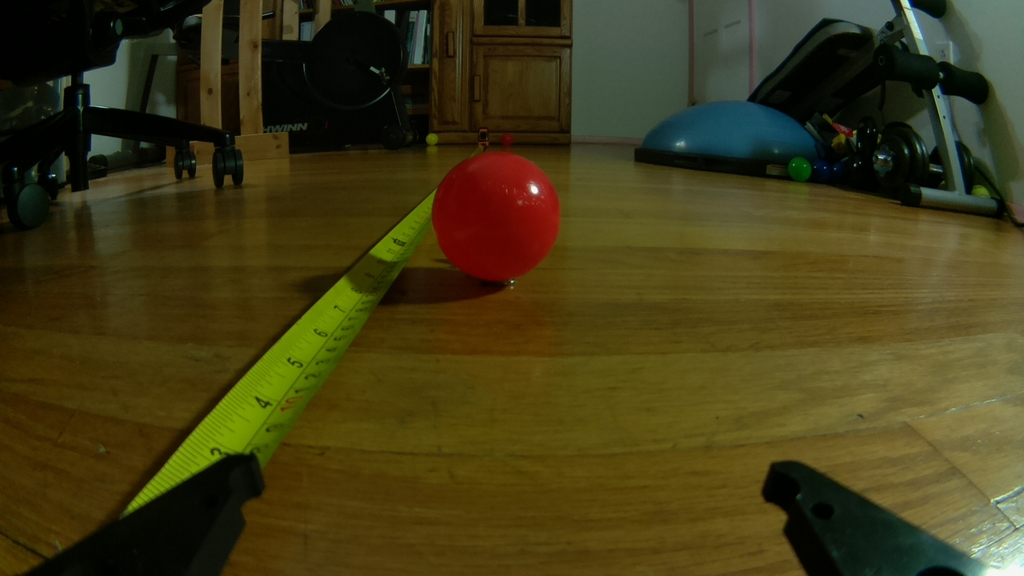ball: (431, 151, 564, 287)
